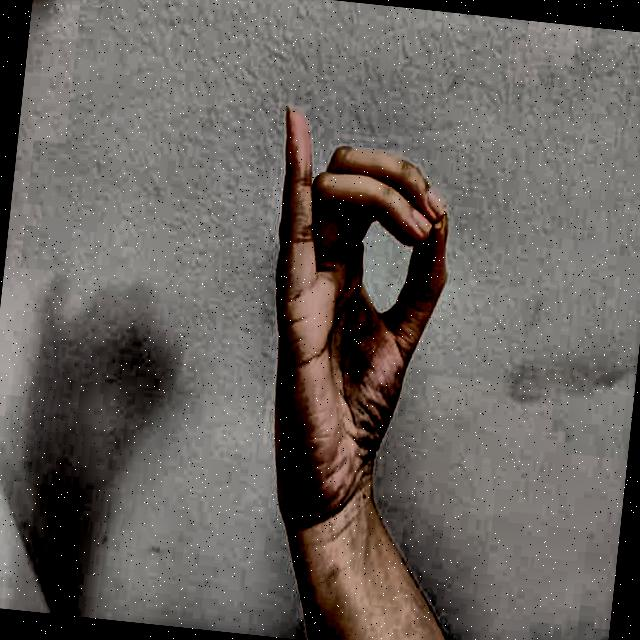Ou: (197, 63, 496, 551)
